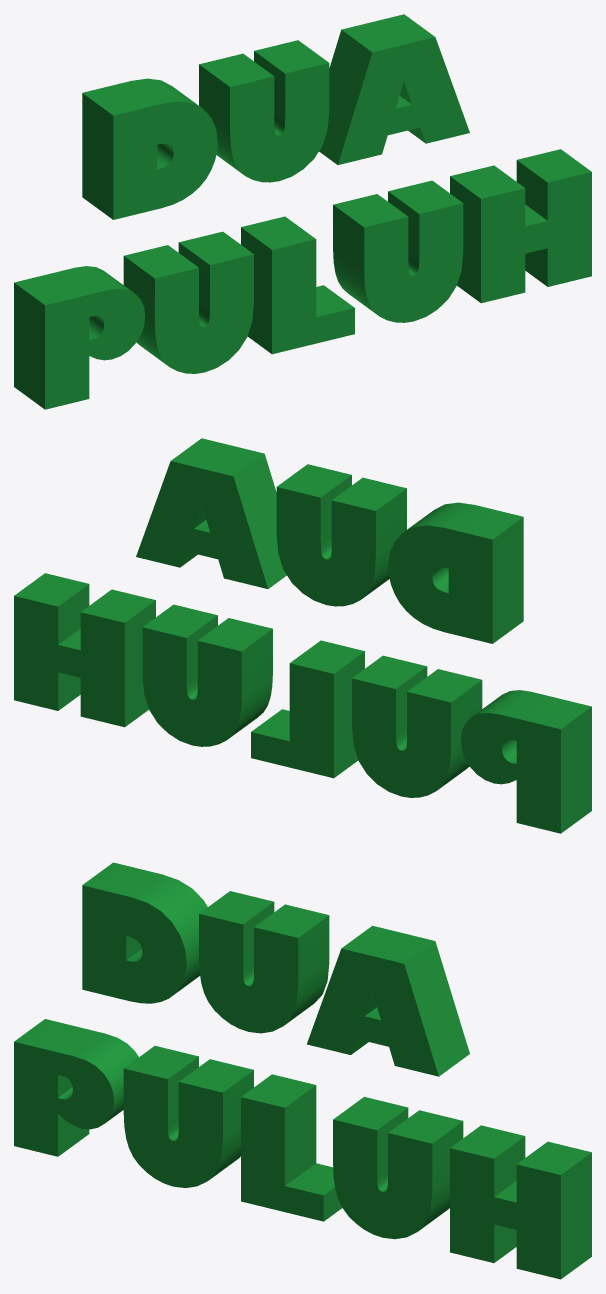
File: DUA PULUH.fbx
3 views of the same model, one above another, from view 1: azimuth 30°, elevation 25°; view 2: azimuth 150°, elevation 25°; view 3: azimuth 330°, elevation 25° (orthographic).
Visible parts, largest first — view 1: node_id188 (×2); view 2: node_id188 (×2); view 3: node_id188 (×2).
Boxes of the visible parts, <box> form: node_id188 (×2): <box>14,14,591,409</box>; node_id188 (×2): <box>14,438,591,833</box>; node_id188 (×2): <box>14,862,591,1279</box>.
Size of the model in its own units: 0.1521 by 0.0742 by 0.015.
